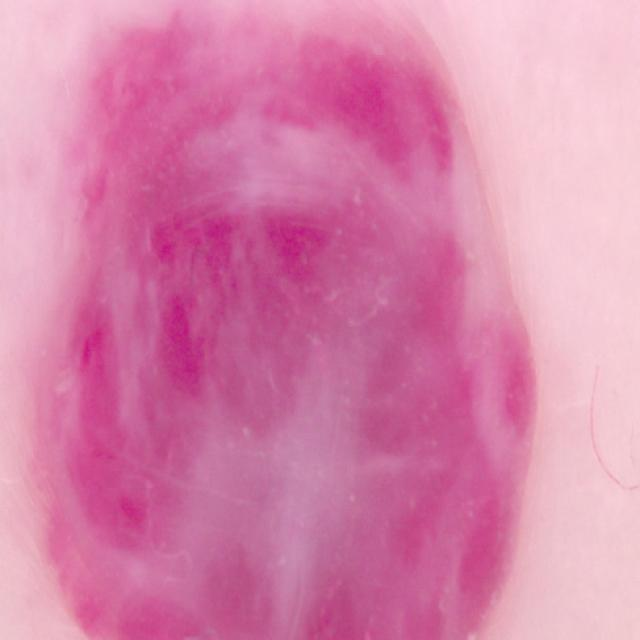Vascular Lesions: (36, 0, 540, 640)
